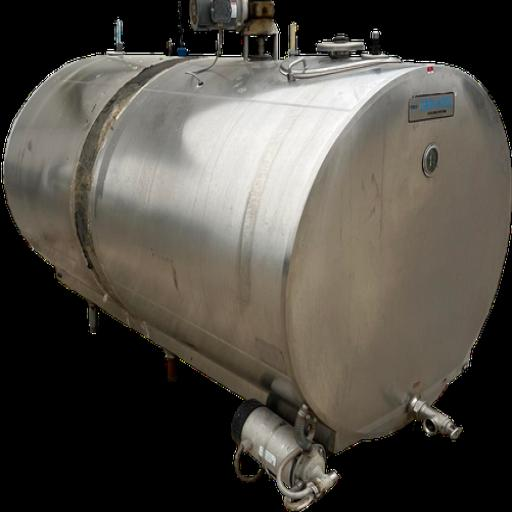silo: (2, 51, 511, 454)
